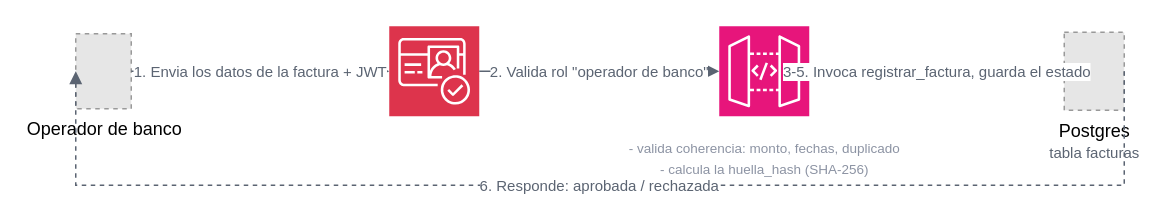
The diagram is 1164 pixels wide and 224 high, and some of its shapes have lost their labels. Grey dashed boxes stand in for pictures. The shapes that lost their labels are listed below. From the top down, each one's centre as x and y in pixels, then its label:
At (x=433, y=70): "Supabase Auth valida JWT + rol".
At (x=763, y=70): "RPC registrar_factura".
